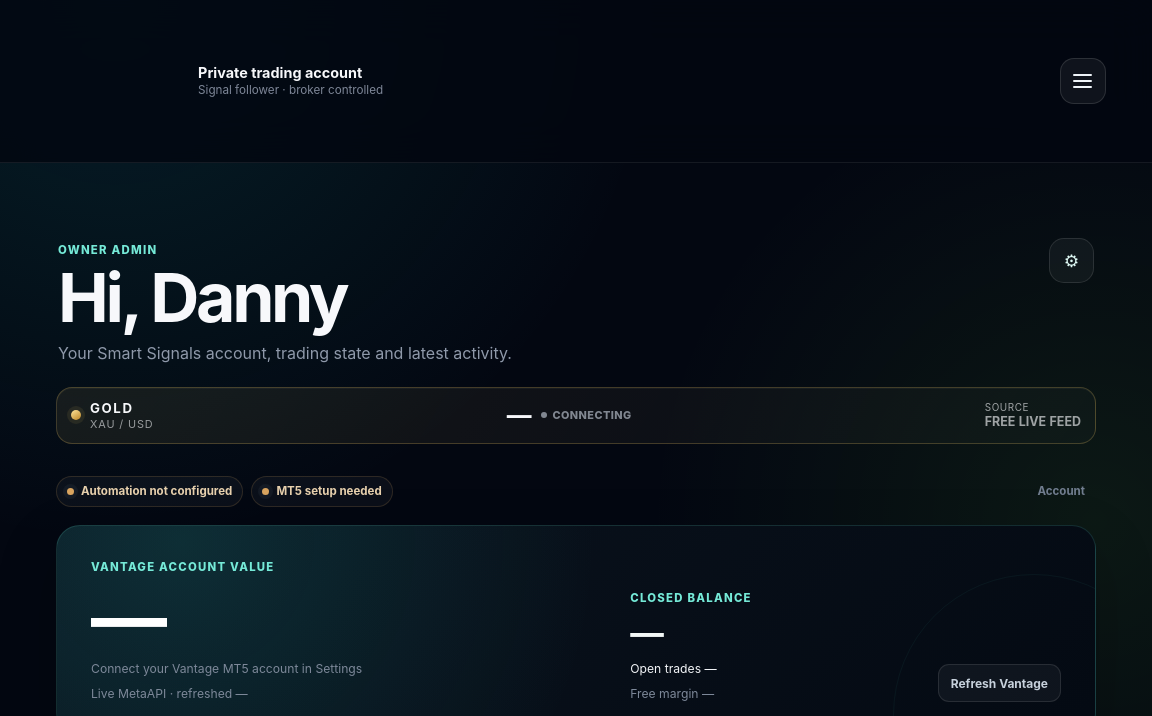
App › opens the shared source workspace from current Settings
Check: the heading "Hi, Danny" is shown, box [58,256,346,338]
Click the button named "Open Settings" at (1072, 260), box [1049,238,1094,283]
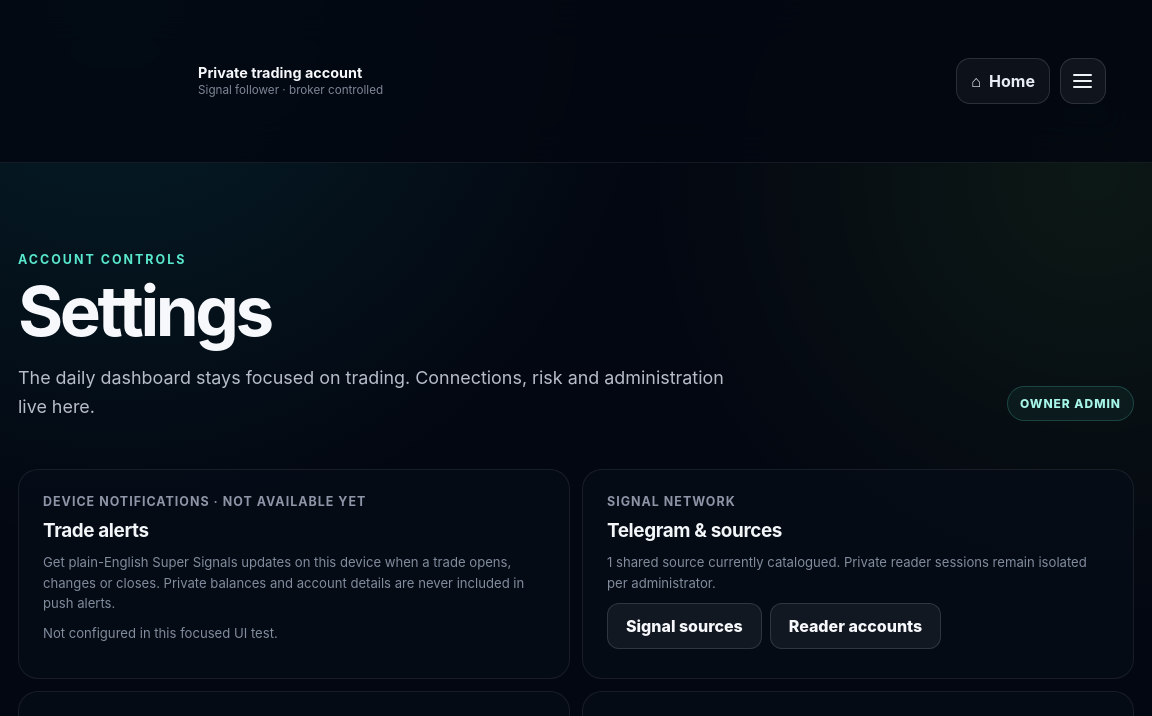
Check: the heading "Settings" is shown, box [18,269,271,353]
Click the button "Signal sources" at (684, 626), box [607,603,762,649]
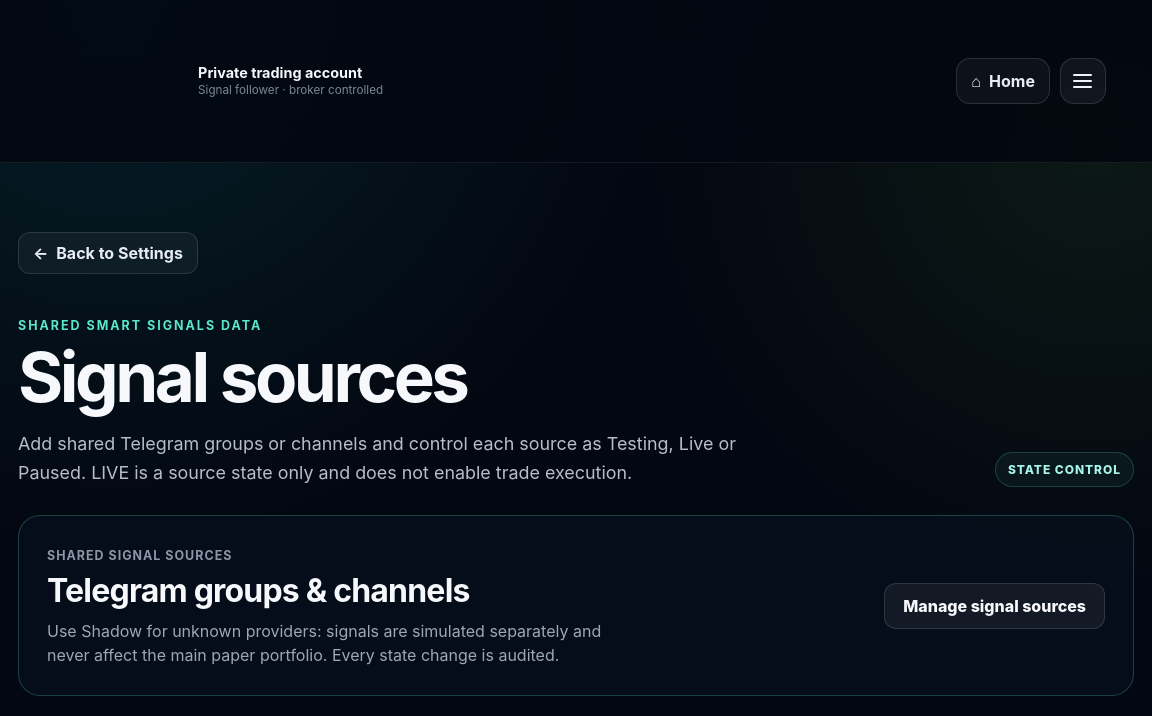
Check: the heading "Signal sources" is shown, box [18,335,467,419]
